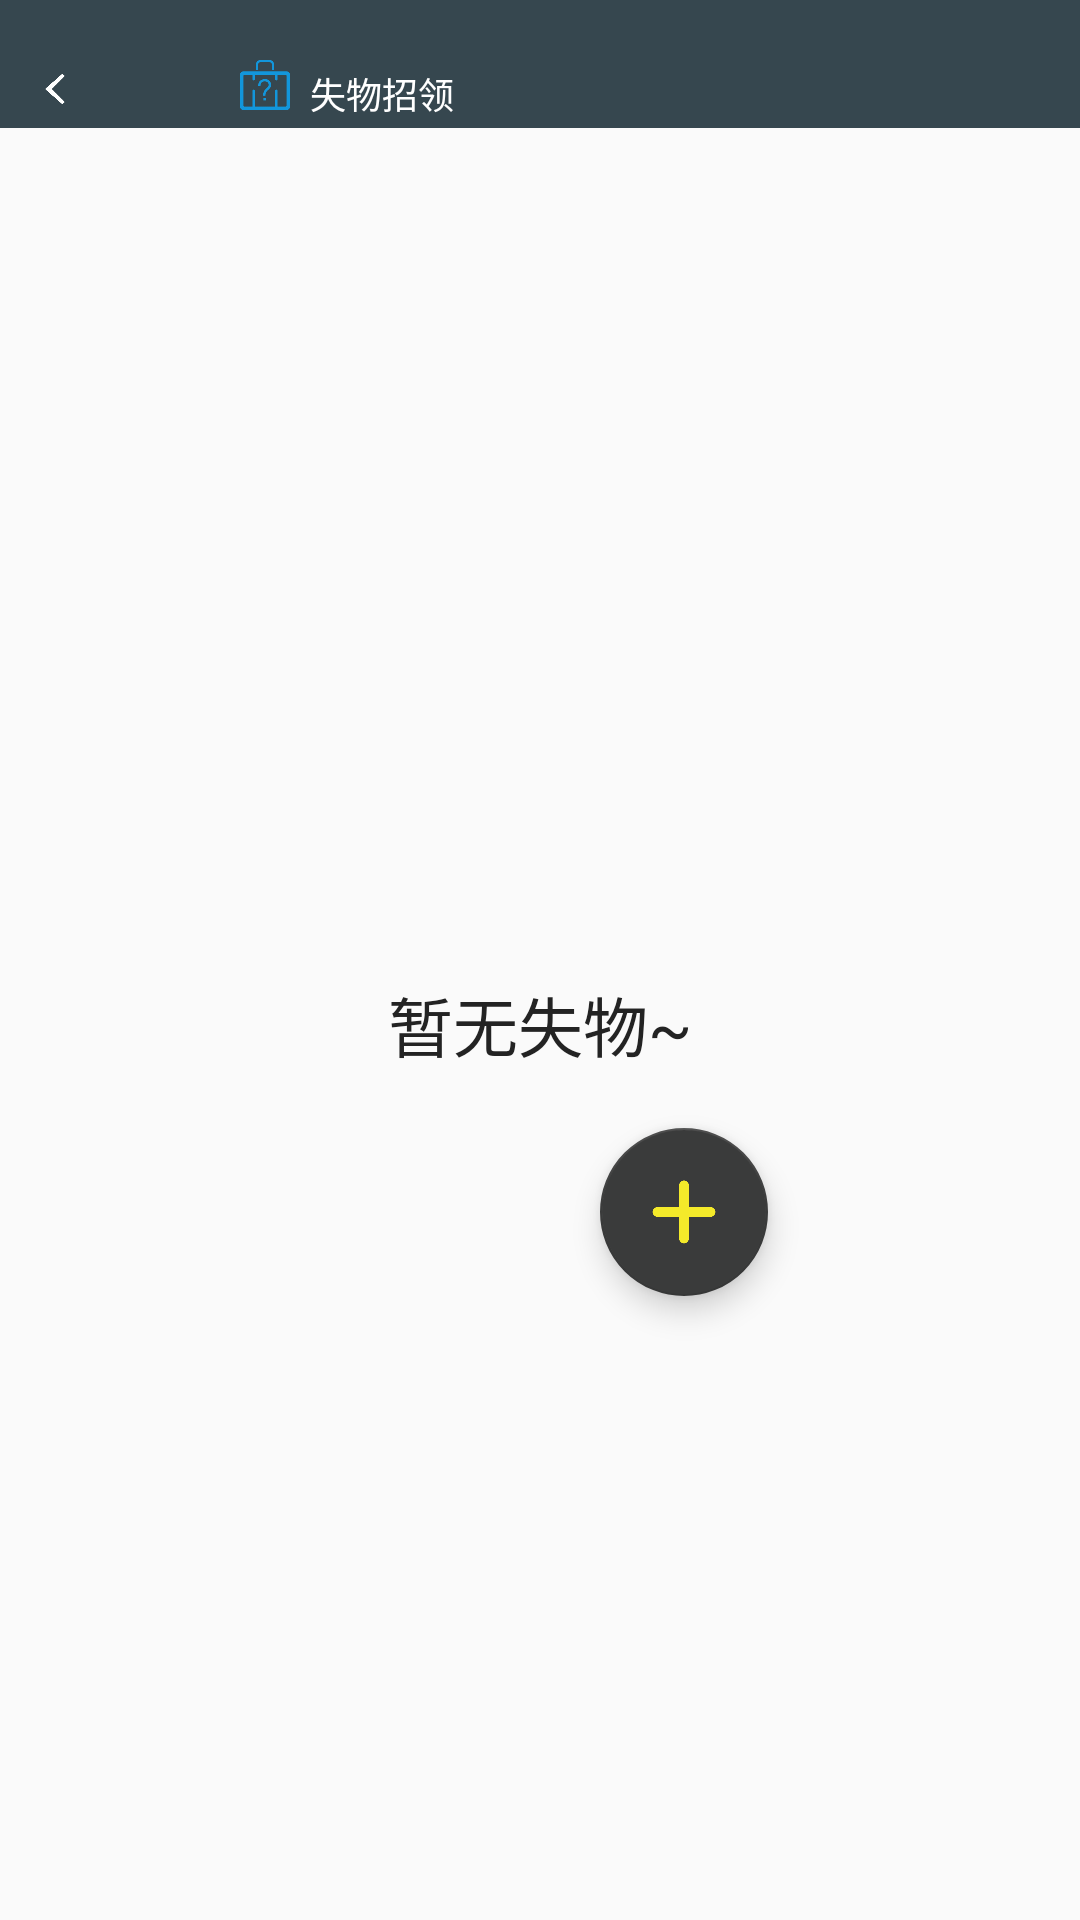

Where icons sit on this 1080x1920 app screen, as (x1, y1, x2, y2):
adds: (600, 1128, 768, 1296)
back: (45, 74, 65, 104)
